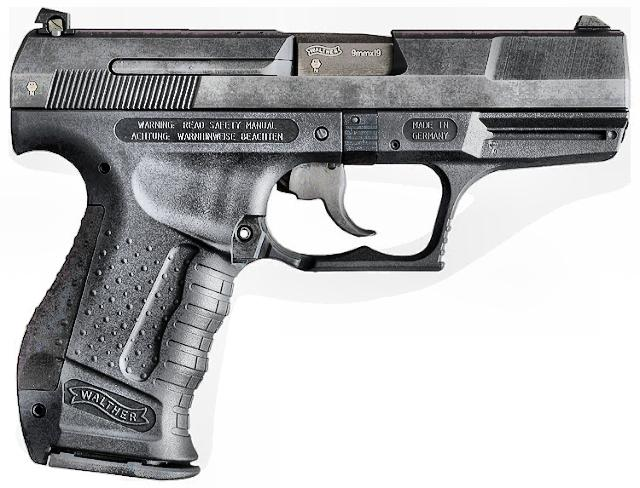pistol: (12, 2, 630, 478)
